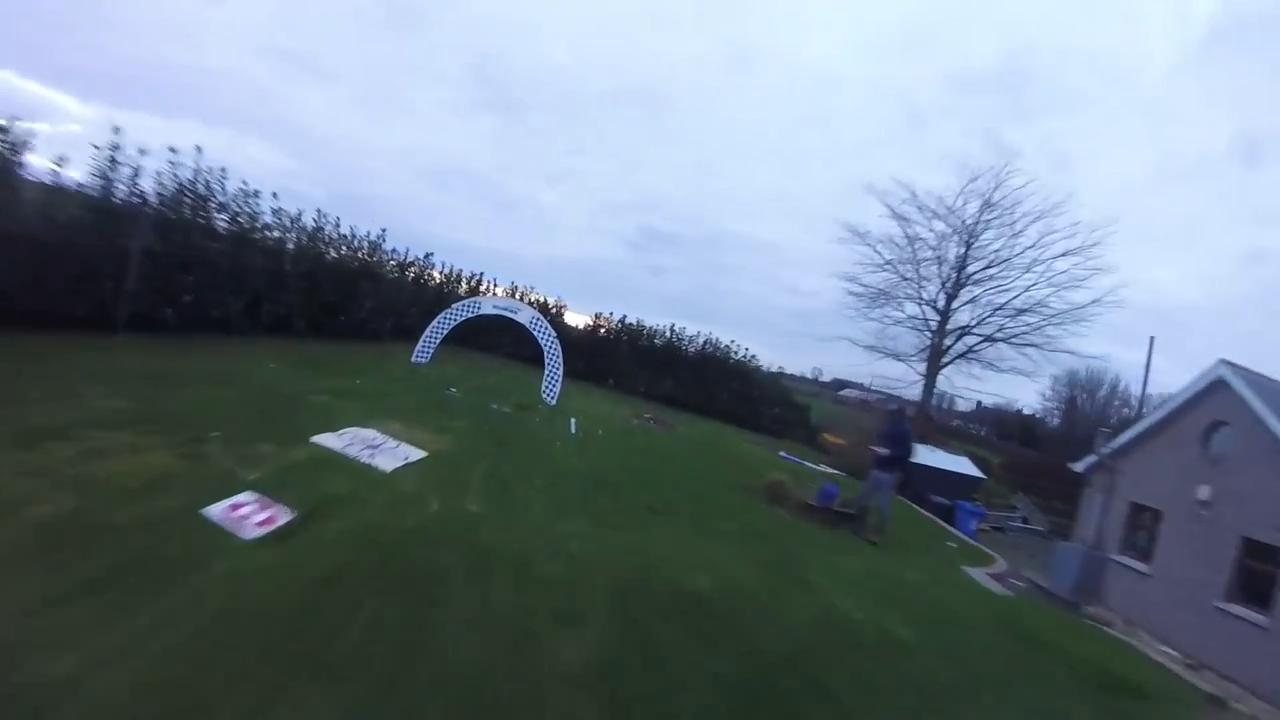gate: (412, 296, 567, 411)
